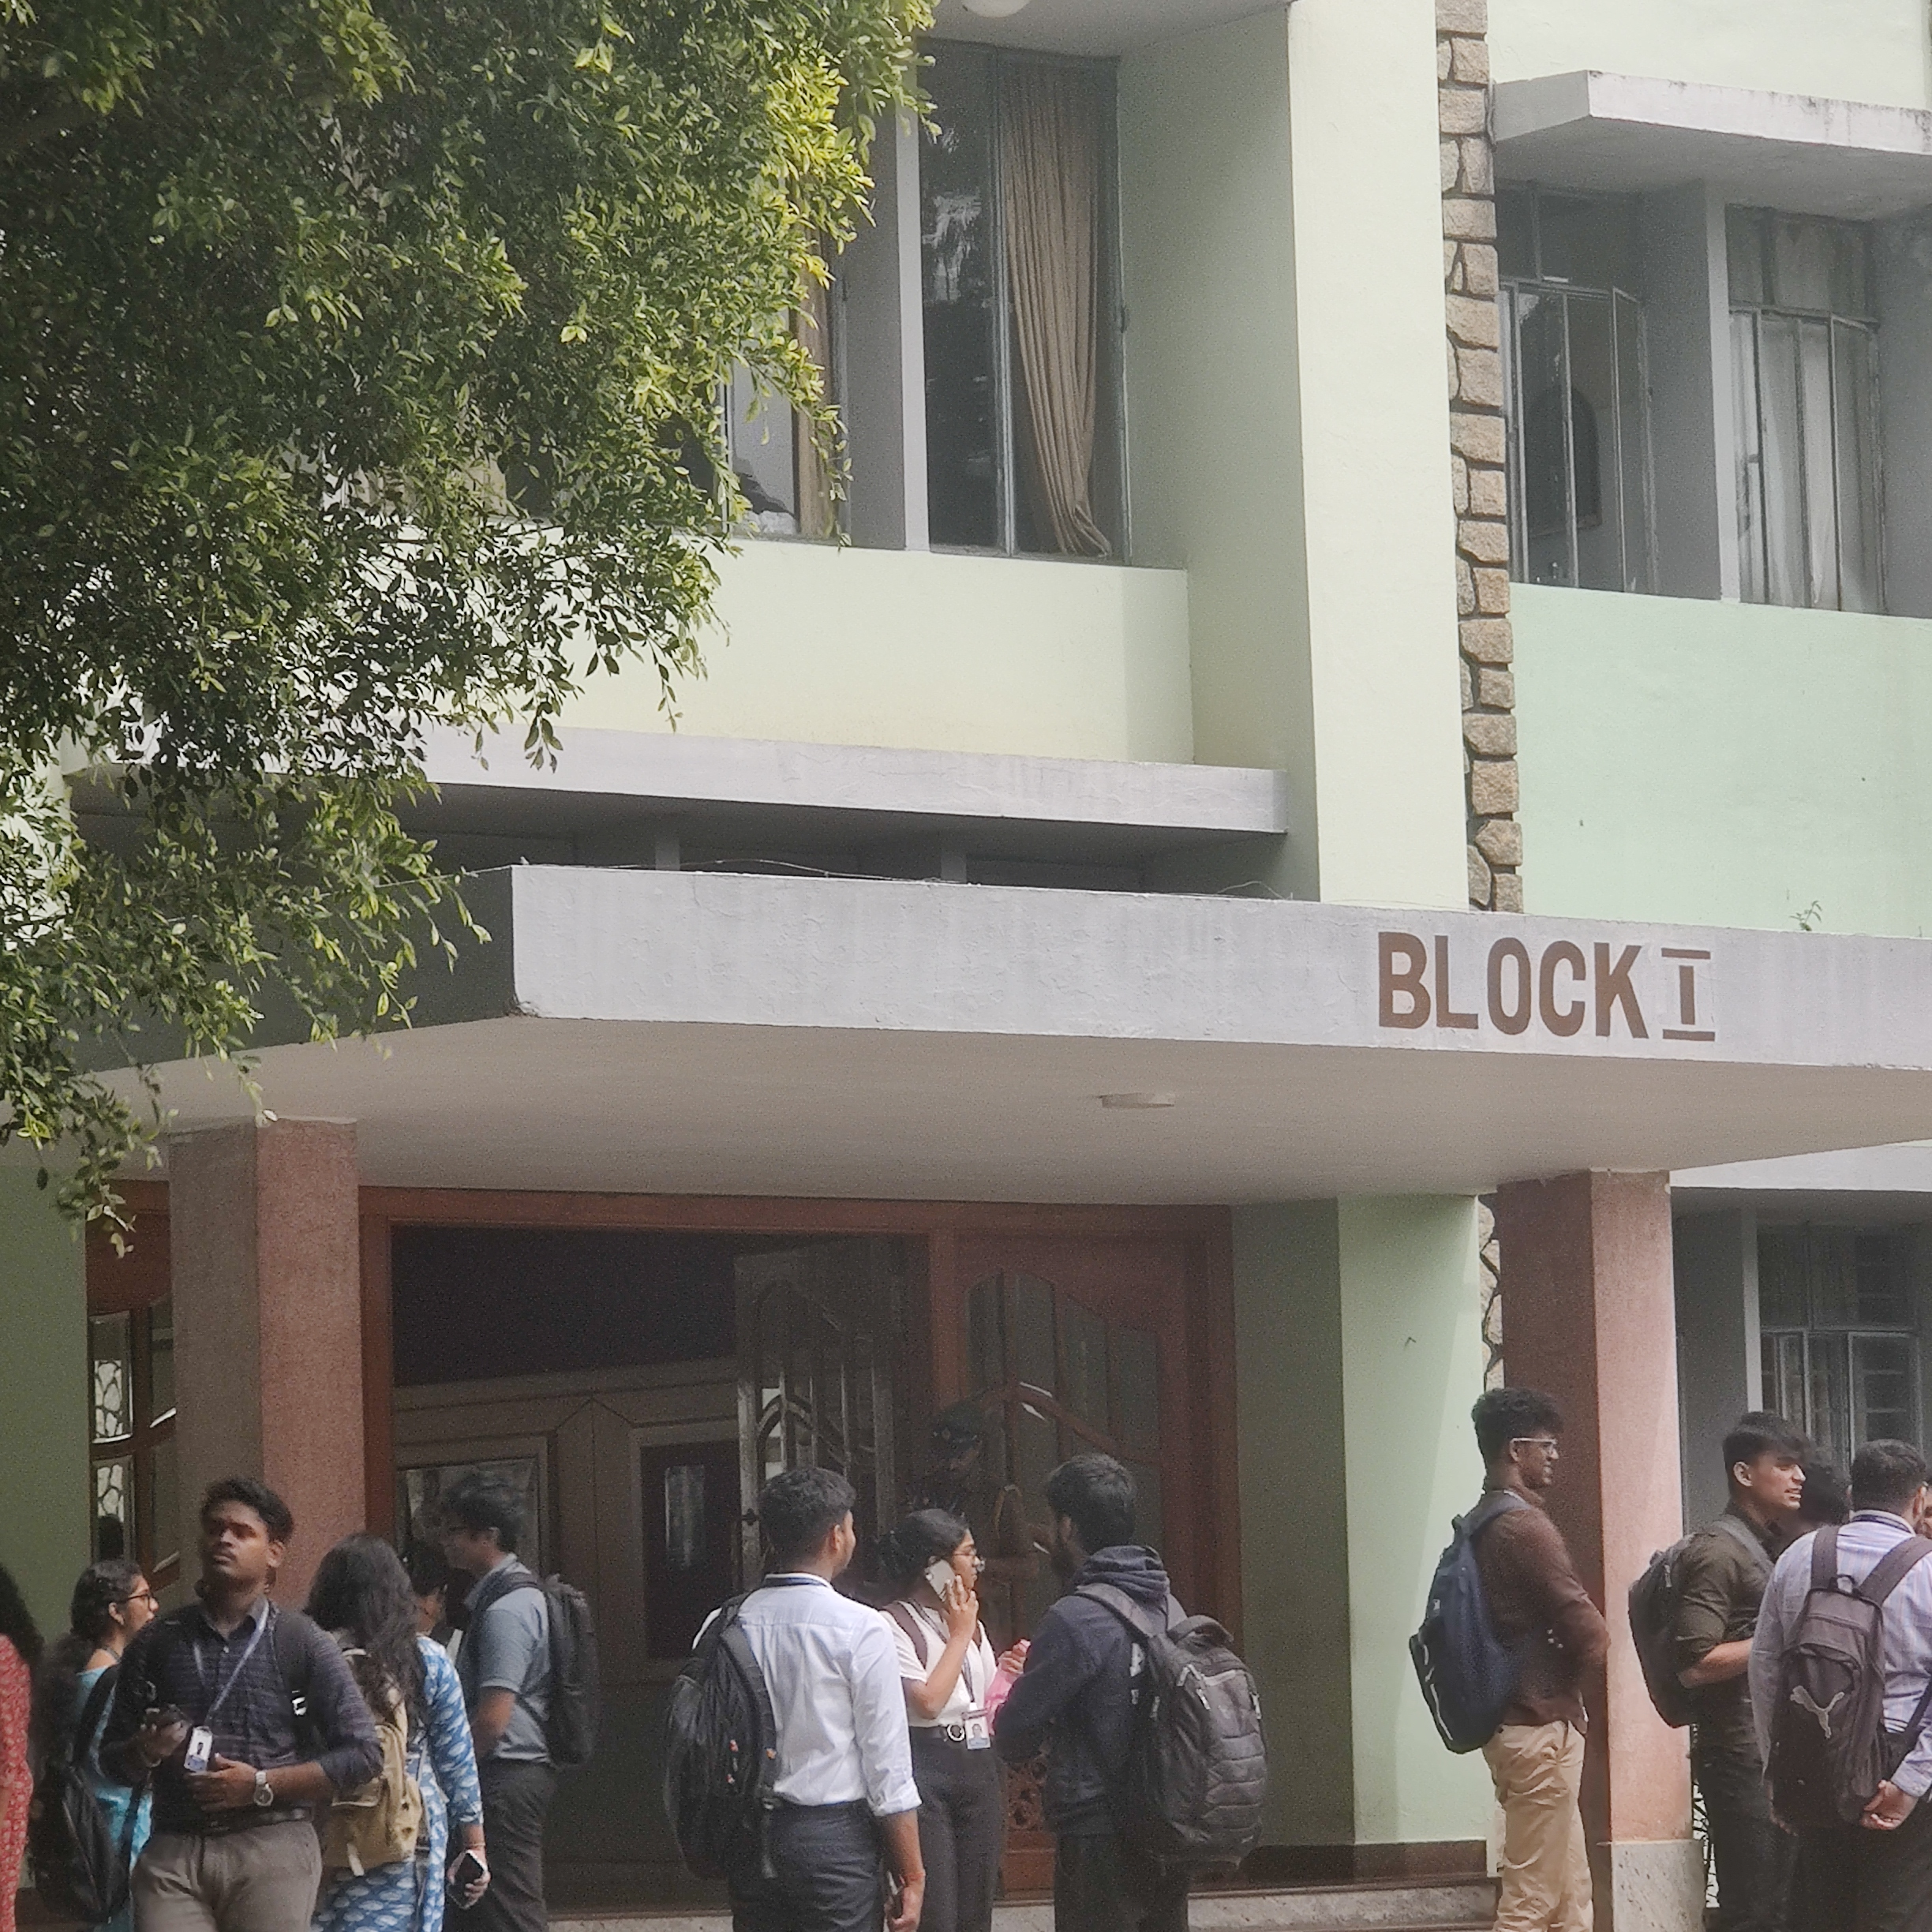Block 1: (223, 0, 1932, 1408)
